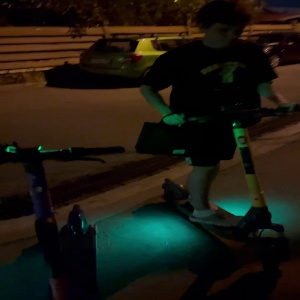human on a scooter: (129, 1, 300, 285)
